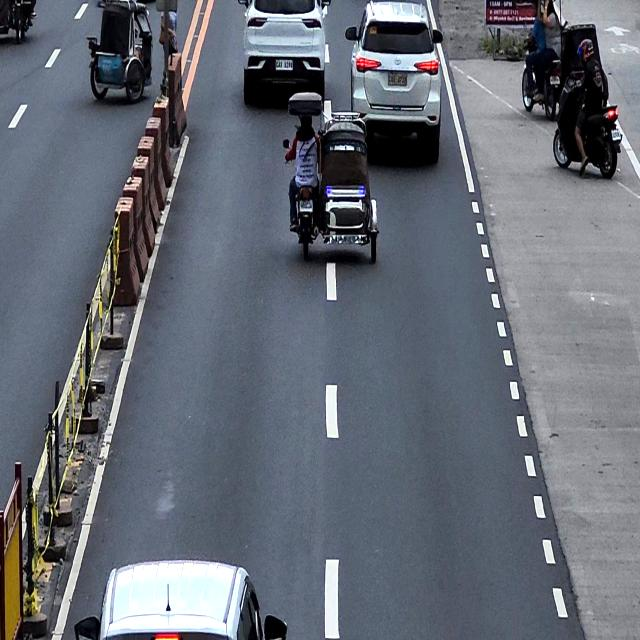Car: (345, 0, 446, 171), (74, 561, 288, 640), (236, 0, 332, 107)
License-Plate: (387, 70, 408, 88), (274, 59, 294, 71), (299, 198, 313, 212), (611, 128, 621, 140), (550, 76, 560, 85)
Motorcycle: (553, 66, 624, 182)
Tricycle: (283, 90, 380, 270), (521, 0, 605, 123), (84, 0, 153, 104)
